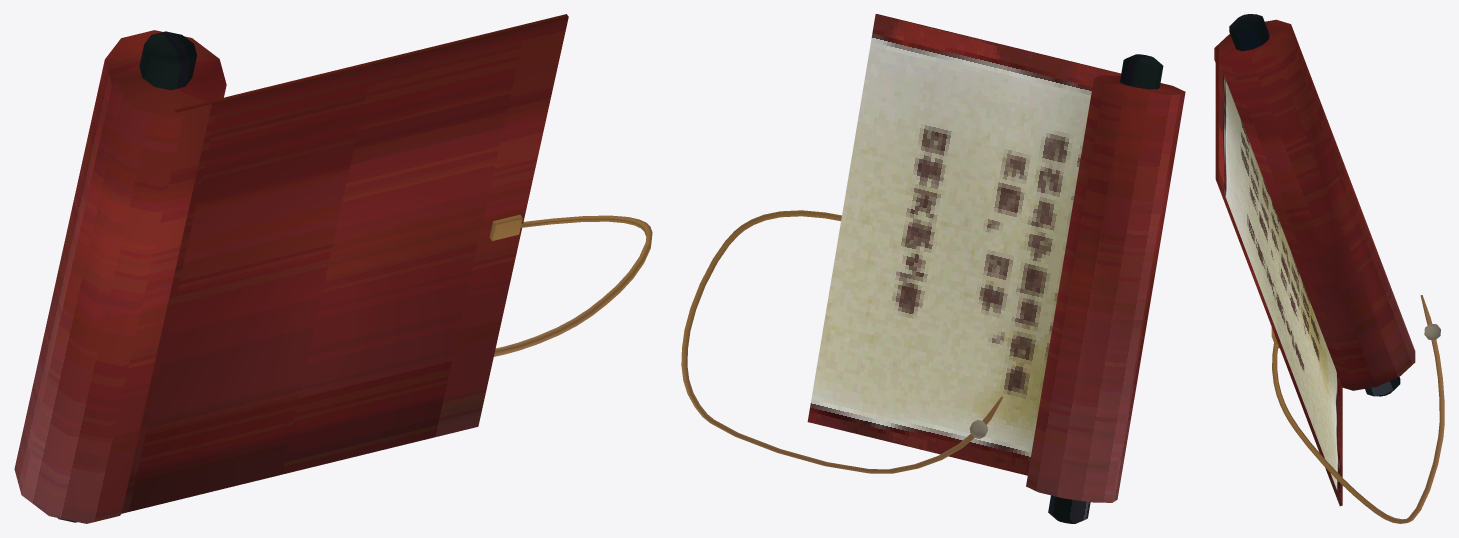
File: ps2_save-icons_fushigiyuugisuzaku.glb
3 renders of one model, left to right at view 1: azimuth 30°, elevation 25°; view 2: azimuth 150°, elevation 25°; view 3: azimuth 270°, elevation 25°, orthographic. The views are drawn at different scales.
Visible parts, largest first — view 1: SAVE.ICO; view 2: SAVE.ICO; view 3: SAVE.ICO.
Boxes of the visible parts, <box> form: SAVE.ICO: <box>14,14,652,523</box>; SAVE.ICO: <box>681,14,1185,523</box>; SAVE.ICO: <box>1214,14,1444,523</box>.
Bounding box in the file's own units: 3.54 × 3.18 × 1.76.
Materials: 1 (1 with a texture image).
